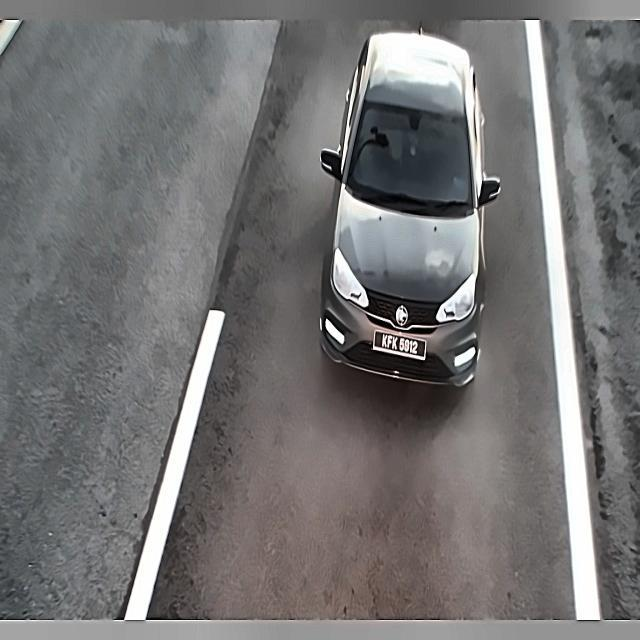car: (372, 330, 431, 367)
